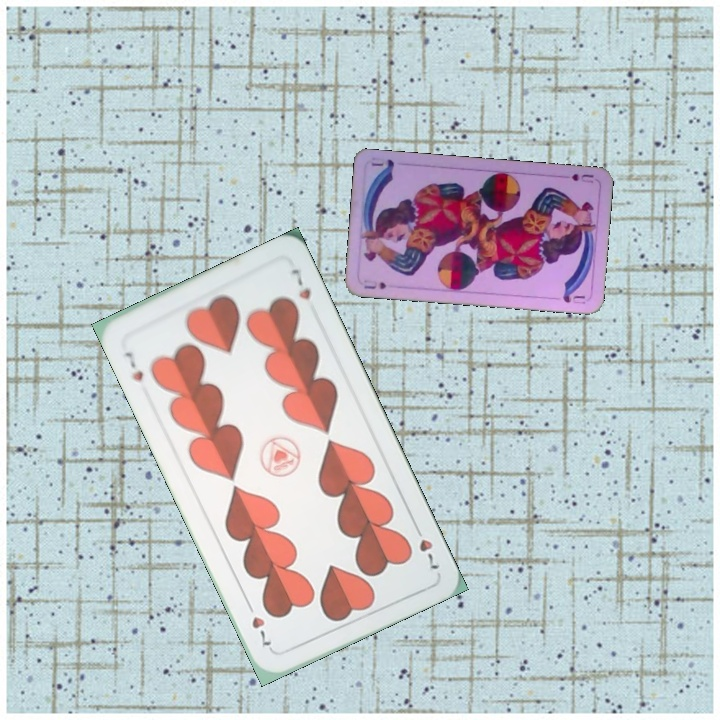H7: (409, 520, 442, 573), (120, 347, 146, 384)
SU: (556, 169, 596, 186), (360, 276, 389, 291)
